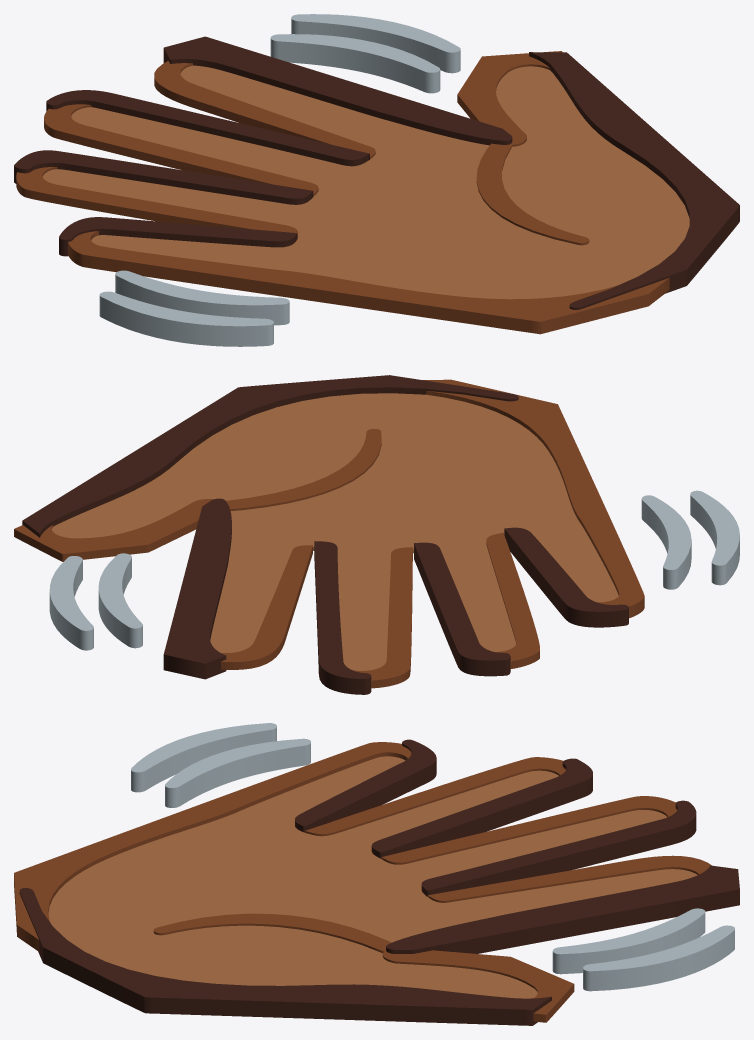
Rendered from emoji_u1f44b_1f3fe.glb.
3 views of the same model, one above another, from view 1: azimuth 30°, elevation 25°; view 2: azimuth 150°, elevation 25°; view 3: azimuth 270°, elevation 25° (orthographic). The views are drawn at different scales.
Visible parts, largest first — view 1: emoji_u1f44b_1f3fe; view 2: emoji_u1f44b_1f3fe; view 3: emoji_u1f44b_1f3fe.
Boxes of the visible parts, x1,y1,x2,y2 form: emoji_u1f44b_1f3fe: [14, 14, 739, 346]; emoji_u1f44b_1f3fe: [14, 375, 739, 694]; emoji_u1f44b_1f3fe: [14, 723, 739, 1025].
Size of the model in its own units: 0.0307 by 0.001 by 0.0329.
